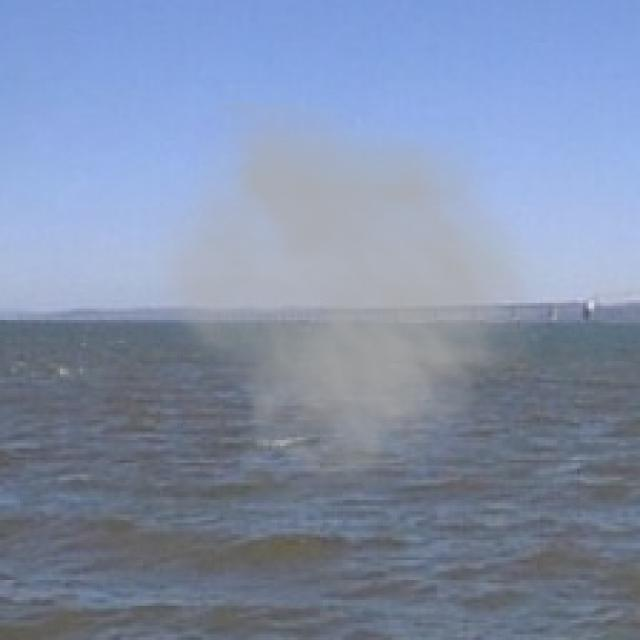smoke: (137, 103, 560, 523)
